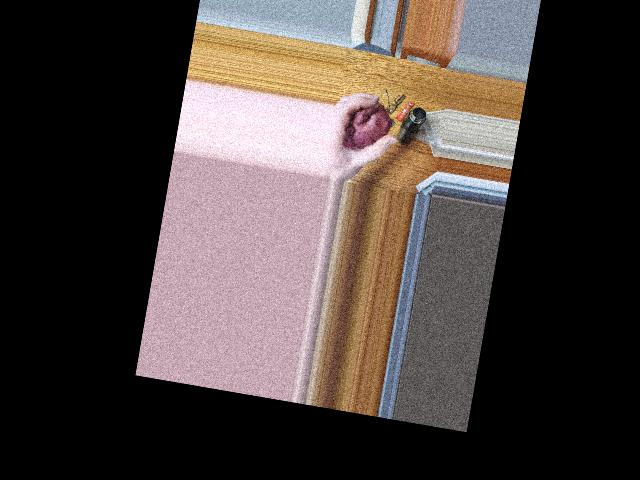onion: (345, 105, 385, 146)
